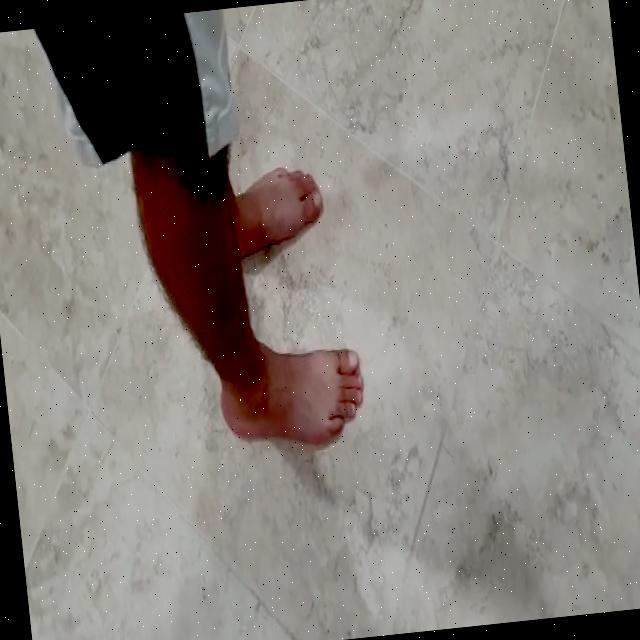no-boots: (194, 308, 370, 473), (230, 152, 336, 272)
